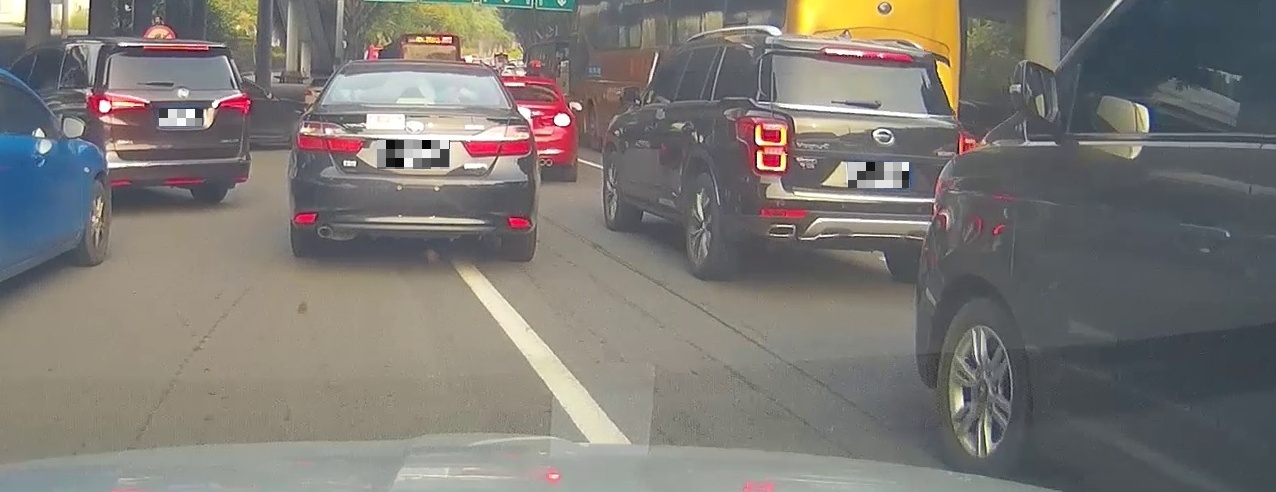L_light: (736, 116, 791, 173), (296, 120, 364, 152), (86, 92, 151, 118)
R_light: (461, 124, 532, 157), (211, 92, 250, 114), (957, 130, 976, 155)
T_light: (825, 47, 914, 64), (143, 45, 209, 51), (395, 97, 434, 104)
day-brake: (733, 34, 977, 282), (83, 38, 252, 205)
day-no: (288, 58, 541, 262)
plate_1: (159, 109, 202, 126)
plate_2: (377, 140, 450, 169)
plate_3: (848, 162, 909, 188)
